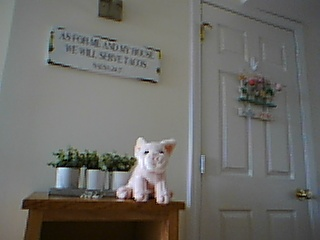piggy: (115, 135, 177, 206)
